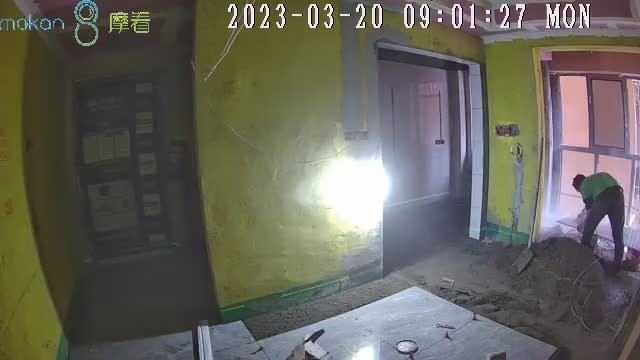people: (572, 171, 625, 271)
window: (550, 72, 640, 254)
